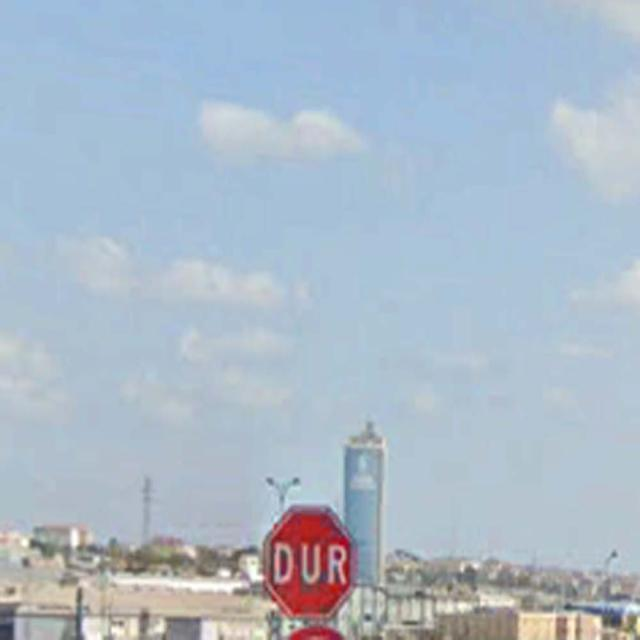dur: (262, 504, 356, 620)
